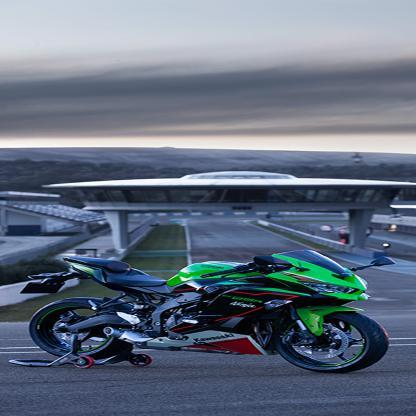Motorcycle: (13, 245, 406, 380)
